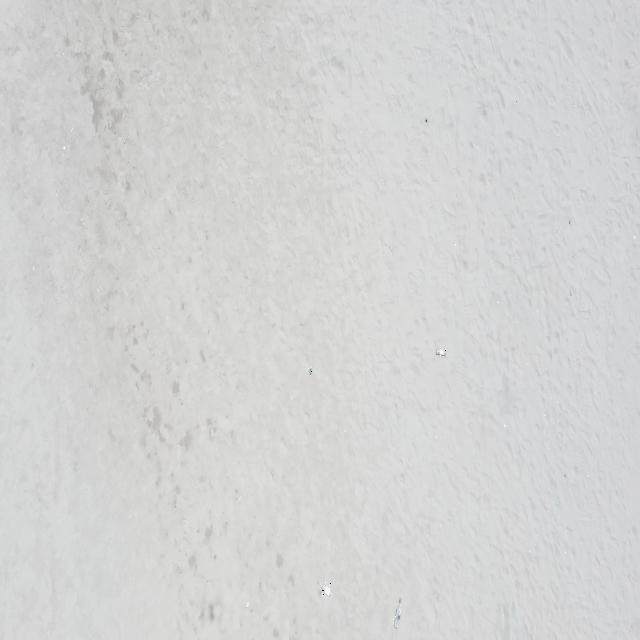glass: (317, 582, 332, 598), (393, 598, 401, 628), (436, 348, 446, 356), (308, 366, 314, 374)
